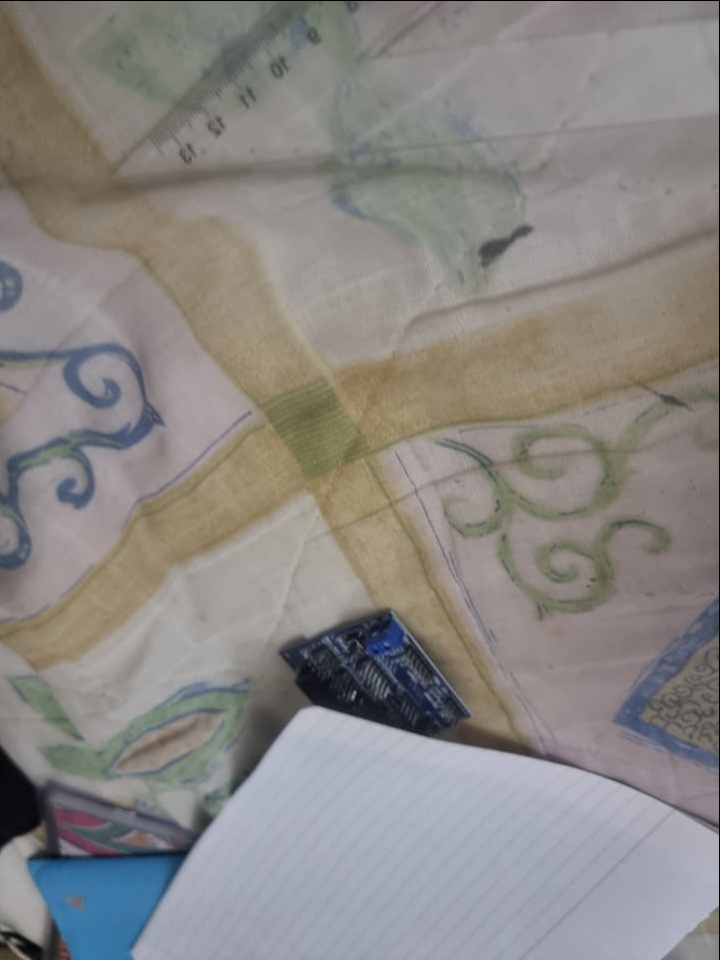5V EXPANSION: (278, 609, 472, 747)
